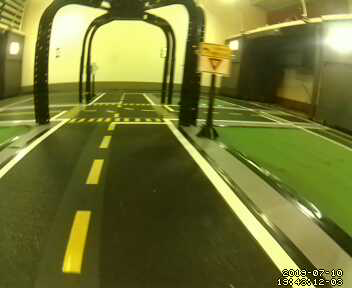Turn Yield: (199, 43, 232, 78)
